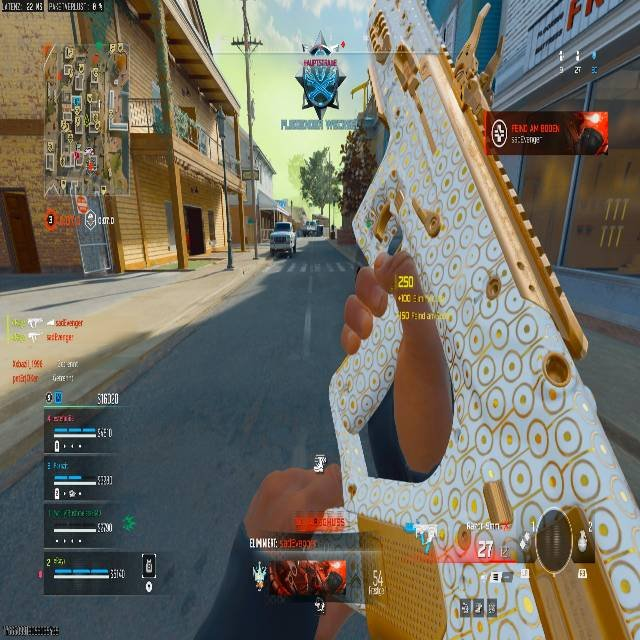player: (294, 43, 347, 119)
